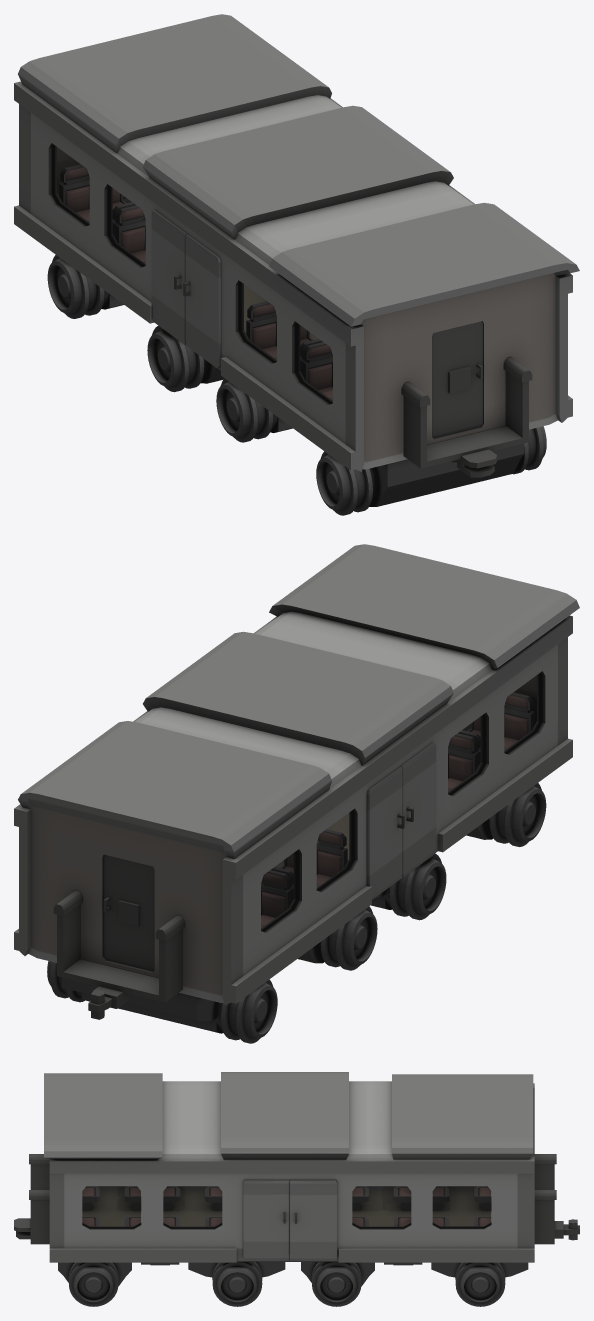
Rendered from asset.glb.
3 views of the same model, one above another, from view 1: azimuth 30°, elevation 25°; view 2: azimuth 150°, elevation 25°; view 3: azimuth 270°, elevation 25° (orthographic). The views are drawn at different scales.
Visible parts, largest first — view 1: Cube.044; view 2: Cube.044; view 3: Cube.044.
Boxes of the visible parts, <box> form: Cube.044: <box>14,14,579,515</box>; Cube.044: <box>14,544,579,1043</box>; Cube.044: <box>14,1072,579,1306</box>.
Bounding box in the file's own units: 4.24 × 4.08 × 12.56.
Materials: 7 (6 with a texture image).
